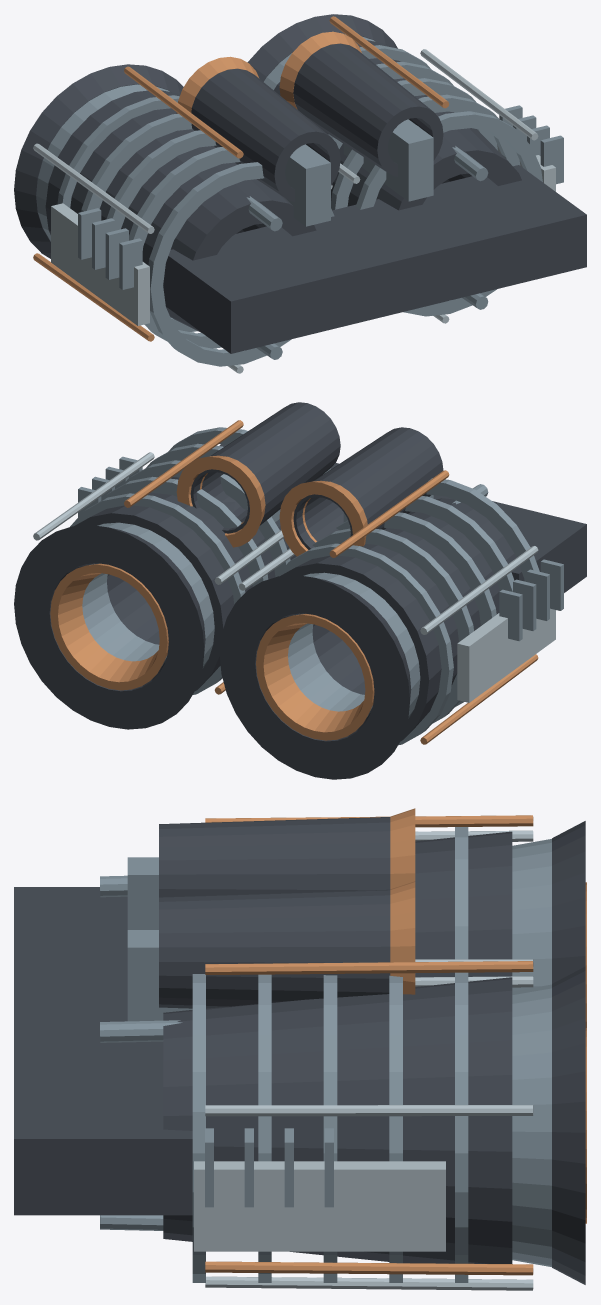
File: engine_nova_v2.glb
The picture shows the model from 3 angles, top to bottom: view 1: azimuth 30°, elevation 25°; view 2: azimuth 150°, elevation 25°; view 3: azimuth 270°, elevation 25°; orthographic projection. The views are drawn at different scales.
Visible parts, largest first — view 1: ENGINE_MODULAR_CASSETTE_CRADLE, ENGINE_-1_STRUCTURAL_CHAMBER, ENGINE_UPPER_1_BOOSTER, ENGINE_UPPER_-1_BOOSTER, ENGINE_-1_RECESSED_BELL, ENGINE_-1_SERVICE_COLLAR_0, ENGINE_-1_SPLIT_SIDE_ARMOR, ENGINE_1_STRUCTURAL_CHAMBER, ENGINE_1_SERVICE_COLLAR_0, ENGINE_UPPER_1_BOOSTER_BRACKET, ENGINE_UPPER_-1_BOOSTER_BRACKET, ENGINE_1_RECESSED_BELL (+23 smaller); view 2: ENGINE_1_RECESSED_BELL, ENGINE_-1_RECESSED_BELL, ENGINE_-1_STRUCTURAL_CHAMBER, ENGINE_UPPER_1_BOOSTER, ENGINE_1_STRUCTURAL_CHAMBER, ENGINE_UPPER_-1_BOOSTER, ENGINE_-1_HEATED_INNER_LIP, ENGINE_1_HEATED_INNER_LIP, ENGINE_1_THROAT, ENGINE_-1_THROAT, ENGINE_-1_SPLIT_SIDE_ARMOR, ENGINE_MODULAR_CASSETTE_CRADLE (+23 smaller); view 3: ENGINE_1_STRUCTURAL_CHAMBER, ENGINE_MODULAR_CASSETTE_CRADLE, ENGINE_UPPER_1_BOOSTER, ENGINE_1_SPLIT_SIDE_ARMOR, ENGINE_UPPER_-1_BOOSTER, ENGINE_-1_STRUCTURAL_CHAMBER, ENGINE_1_THROAT, ENGINE_1_RECESSED_BELL, ENGINE_-1_THROAT, ENGINE_-1_RECESSED_BELL, ENGINE_1_SERVICE_COLLAR_4, ENGINE_1_EXTERNAL_HEAT_CHANNEL_5 (+21 smaller).
Boxes of the visible parts, x1,y1,x2,y2 form: ENGINE_MODULAR_CASSETTE_CRADLE: [163, 165, 586, 353]; ENGINE_-1_STRUCTURAL_CHAMBER: [45, 90, 316, 333]; ENGINE_UPPER_1_BOOSTER: [293, 43, 443, 176]; ENGINE_UPPER_-1_BOOSTER: [191, 68, 340, 201]; ENGINE_-1_RECESSED_BELL: [14, 64, 183, 258]; ENGINE_-1_SERVICE_COLLAR_0: [148, 162, 334, 366]; ENGINE_-1_SPLIT_SIDE_ARMOR: [51, 203, 149, 325]; ENGINE_1_STRUCTURAL_CHAMBER: [274, 40, 521, 210]; ENGINE_1_SERVICE_COLLAR_0: [355, 111, 542, 316]; ENGINE_UPPER_1_BOOSTER_BRACKET: [343, 119, 433, 201]; ENGINE_UPPER_-1_BOOSTER_BRACKET: [285, 144, 330, 226]; ENGINE_1_RECESSED_BELL: [247, 14, 397, 81]; ENGINE_1_RECESSED_BELL: [14, 525, 205, 729]; ENGINE_-1_RECESSED_BELL: [219, 575, 411, 779]; ENGINE_-1_STRUCTURAL_CHAMBER: [280, 498, 516, 741]; ENGINE_UPPER_1_BOOSTER: [190, 402, 340, 533]; ENGINE_1_STRUCTURAL_CHAMBER: [75, 477, 296, 690]; ENGINE_UPPER_-1_BOOSTER: [293, 427, 443, 549]; ENGINE_-1_HEATED_INNER_LIP: [256, 614, 374, 740]; ENGINE_1_HEATED_INNER_LIP: [50, 563, 168, 690]; ENGINE_1_THROAT: [82, 522, 214, 668]; ENGINE_-1_THROAT: [288, 572, 420, 718]; ENGINE_-1_SPLIT_SIDE_ARMOR: [457, 608, 555, 702]; ENGINE_MODULAR_CASSETTE_CRADLE: [219, 444, 586, 592]; ENGINE_1_STRUCTURAL_CHAMBER: [163, 977, 512, 1263]; ENGINE_MODULAR_CASSETTE_CRADLE: [14, 887, 192, 1215]; ENGINE_UPPER_1_BOOSTER: [159, 889, 390, 1008]; ENGINE_1_SPLIT_SIDE_ARMOR: [194, 1161, 445, 1251]; ENGINE_UPPER_-1_BOOSTER: [159, 817, 390, 896]; ENGINE_-1_STRUCTURAL_CHAMBER: [415, 831, 512, 977]; ENGINE_1_THROAT: [512, 984, 551, 1266]; ENGINE_1_RECESSED_BELL: [552, 966, 585, 1284]; ENGINE_-1_THROAT: [512, 839, 551, 991]; ENGINE_-1_RECESSED_BELL: [552, 821, 585, 983]; ENGINE_1_SERVICE_COLLAR_4: [455, 972, 468, 1282]; ENGINE_1_EXTERNAL_HEAT_CHANNEL_5: [205, 1261, 533, 1275].
Bounding box in the file's own units: 1.76 × 0.9622 × 1.36.
